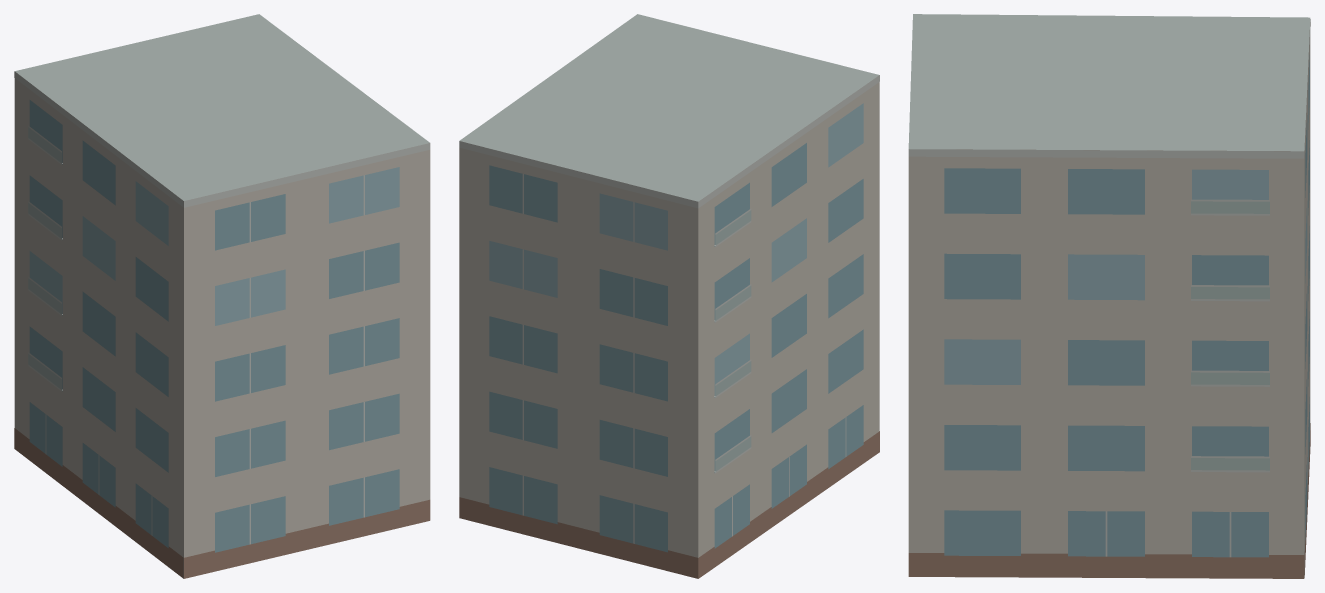
Rendered from survey-upis-32632090.glb.
The picture shows the model from 3 angles, left to right: view 1: azimuth 30°, elevation 25°; view 2: azimuth 150°, elevation 25°; view 3: azimuth 270°, elevation 25°; orthographic projection. The views are drawn at different scales.
Visible parts, largest first — view 1: survey-upis-32632090.tmp; view 2: survey-upis-32632090.tmp; view 3: survey-upis-32632090.tmp.
Boxes of the visible parts, box(x1,y1,x2,y2) form: survey-upis-32632090.tmp: box(14, 14, 430, 578); survey-upis-32632090.tmp: box(459, 14, 879, 578); survey-upis-32632090.tmp: box(908, 14, 1310, 578).
Bounding box in the file's own units: 9.46 × 13.7 × 11.68.
